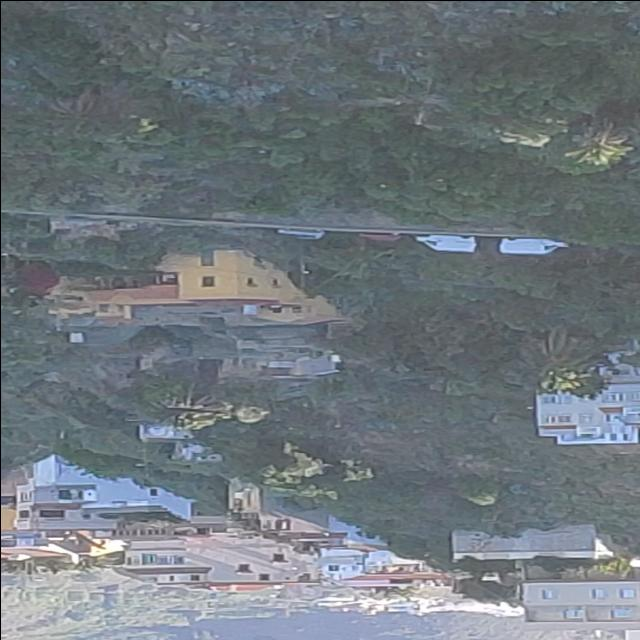Palm-Trees: (546, 115, 640, 166)
